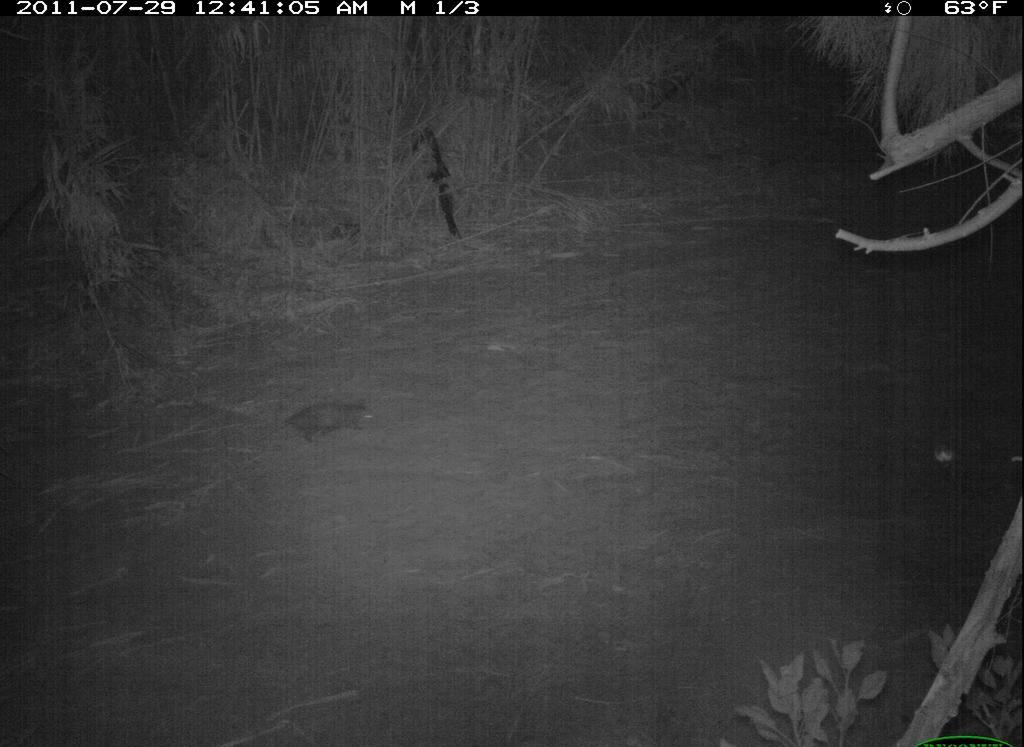opossum: (243, 388, 399, 454)
